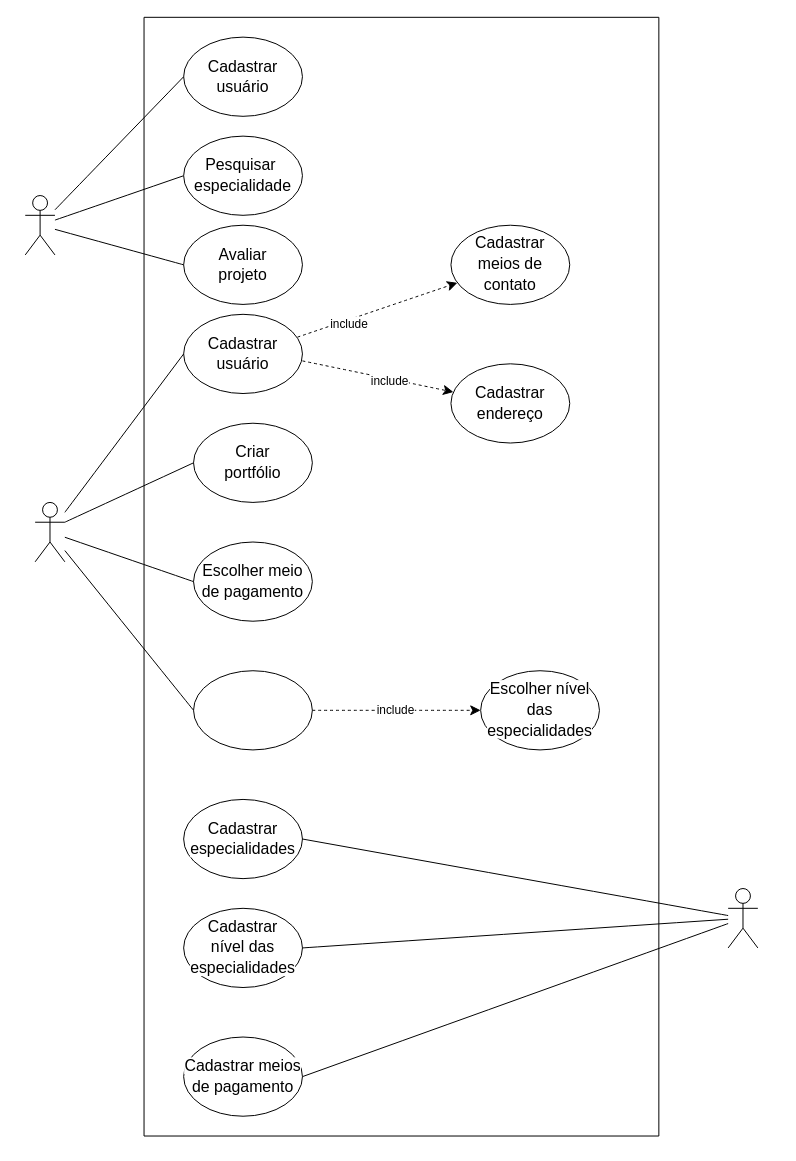
The diagram is 796 pixels wide and 1161 high, and some of its shapes have lost their labels. The box of each missing label's shape, as (x1, y1, x2, y2) in pixels:
Administrador: (727, 888, 758, 948)
Cliente: (24, 195, 55, 255)
Escolher especialidades: (193, 670, 312, 750)
Fotógrafo(a): (34, 501, 65, 562)
